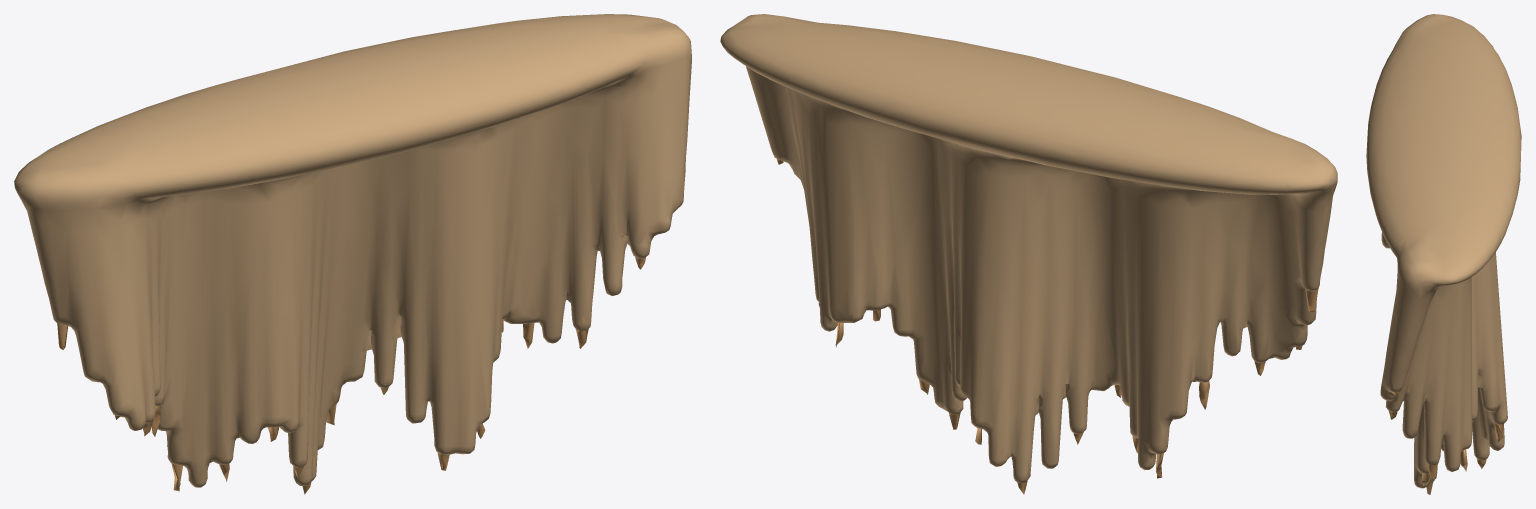
File: curtain.glb
The picture shows the model from 3 angles, left to right: view 1: azimuth 30°, elevation 25°; view 2: azimuth 150°, elevation 25°; view 3: azimuth 270°, elevation 25°; orthographic projection. The views are drawn at different scales.
Parts seen in each view (by area): view 1: calcite0, pale1; view 2: calcite0, pale1; view 3: calcite0, pale1.
Boxes of the visible parts, bbox=[...] form: calcite0: bbox=[14, 14, 691, 487]; pale1: bbox=[56, 238, 649, 494]; calcite0: bbox=[720, 14, 1337, 483]; pale1: bbox=[776, 159, 1320, 494]; calcite0: bbox=[1366, 14, 1521, 488]; pale1: bbox=[1388, 392, 1503, 494].
Size of the model in its own units: 3.2 by 2.01 by 0.7969.
